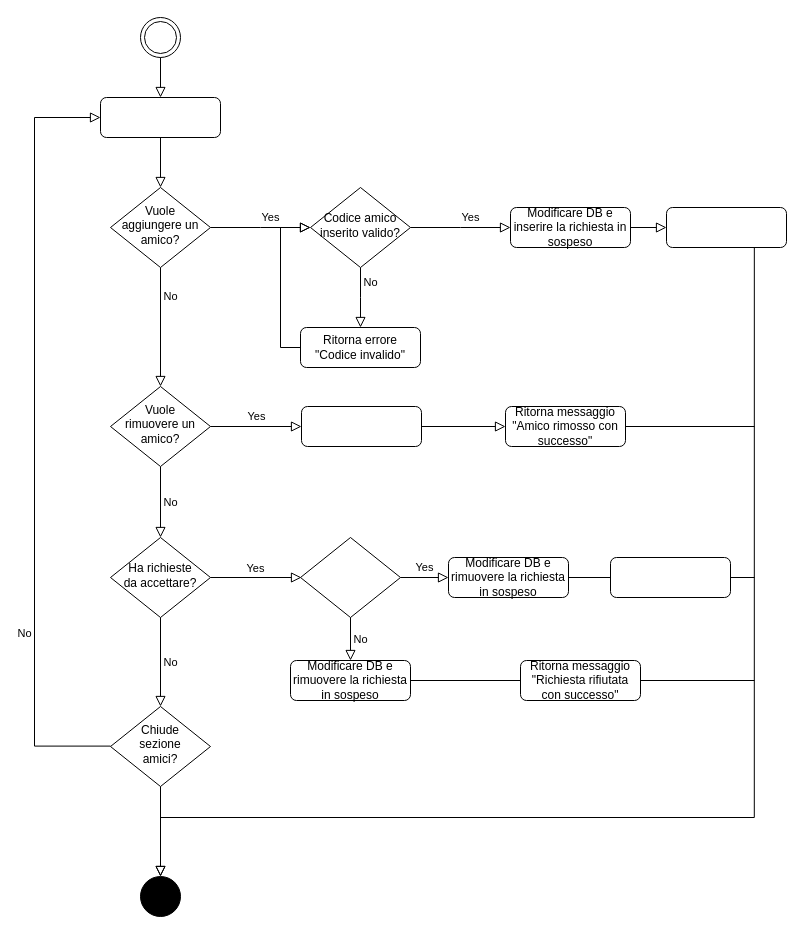
Some shapes in this 804 by 934 pixel diagram are drawn without their labels. The shapes that lost their labels are listed below. From the top down, each one's box as (x1, y1, x2, y2) in pixels, then its label:
(100, 96, 220, 138): Vedi Sezione amici
(666, 206, 786, 248): Ritorna messaggio "Richiesta mandata con successo"
(300, 406, 422, 446): Modificare DB e eliminare amicizia tra i due player
(300, 536, 400, 618): Accetta?
(610, 556, 730, 598): Ritorna messaggio "Richiesta accettata con successo"
